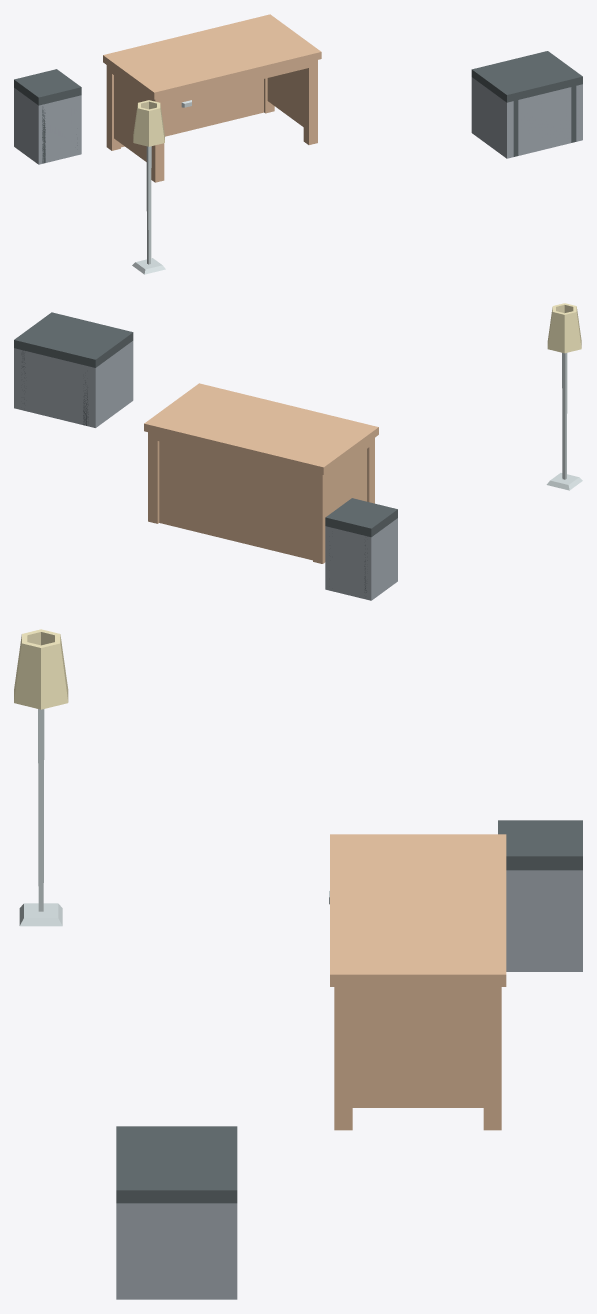
The picture shows the model from 3 angles, top to bottom: view 1: azimuth 30°, elevation 25°; view 2: azimuth 150°, elevation 25°; view 3: azimuth 270°, elevation 25°; orthographic projection. The views are drawn at different scales.
Parts seen in each view (by area): view 1: desk_blue__desk(Clone), crate_red__crate_red shell, bin_gray__bin_gray shell, crate_red__crate_red lid, lamp_white__lampRoundFloor(Clone), bin_gray__bin_gray lid, desk_blue__drawer, crate_red__crate_red band, crate_red__crate_red band.001; view 2: desk_blue__desk(Clone), crate_red__crate_red shell, bin_gray__bin_gray shell, crate_red__crate_red lid, lamp_white__lampRoundFloor(Clone), bin_gray__bin_gray lid; view 3: desk_blue__desk(Clone), crate_red__crate_red shell, crate_red__crate_red lid, bin_gray__bin_gray shell, lamp_white__lampRoundFloor(Clone), bin_gray__bin_gray lid.
Part boxes in pixels (<box>): desk_blue__desk(Clone): <box>103,14,321,182</box>; crate_red__crate_red shell: <box>471,77,582,158</box>; bin_gray__bin_gray shell: <box>14,88,81,164</box>; crate_red__crate_red lid: <box>471,51,582,102</box>; lamp_white__lampRoundFloor(Clone): <box>132,100,165,274</box>; bin_gray__bin_gray lid: <box>14,69,81,105</box>; desk_blue__drawer: <box>164,92,209,114</box>; crate_red__crate_red band: <box>480,66,518,156</box>; crate_red__crate_red band.001: <box>538,53,576,142</box>; desk_blue__desk(Clone): <box>144,383,378,563</box>; crate_red__crate_red shell: <box>14,341,133,427</box>; bin_gray__bin_gray shell: <box>325,518,397,600</box>; crate_red__crate_red lid: <box>14,312,133,367</box>; lamp_white__lampRoundFloor(Clone): <box>546,303,582,490</box>; bin_gray__bin_gray lid: <box>325,498,397,537</box>; desk_blue__desk(Clone): <box>330,834,506,1130</box>; crate_red__crate_red shell: <box>116,1203,237,1299</box>; crate_red__crate_red lid: <box>116,1126,237,1203</box>; bin_gray__bin_gray shell: <box>506,870,582,971</box>; lamp_white__lampRoundFloor(Clone): <box>14,629,68,926</box>; bin_gray__bin_gray lid: <box>498,820,582,870</box>.
Bounding box in the file's own units: 3.66 × 1.2 × 2.22.
